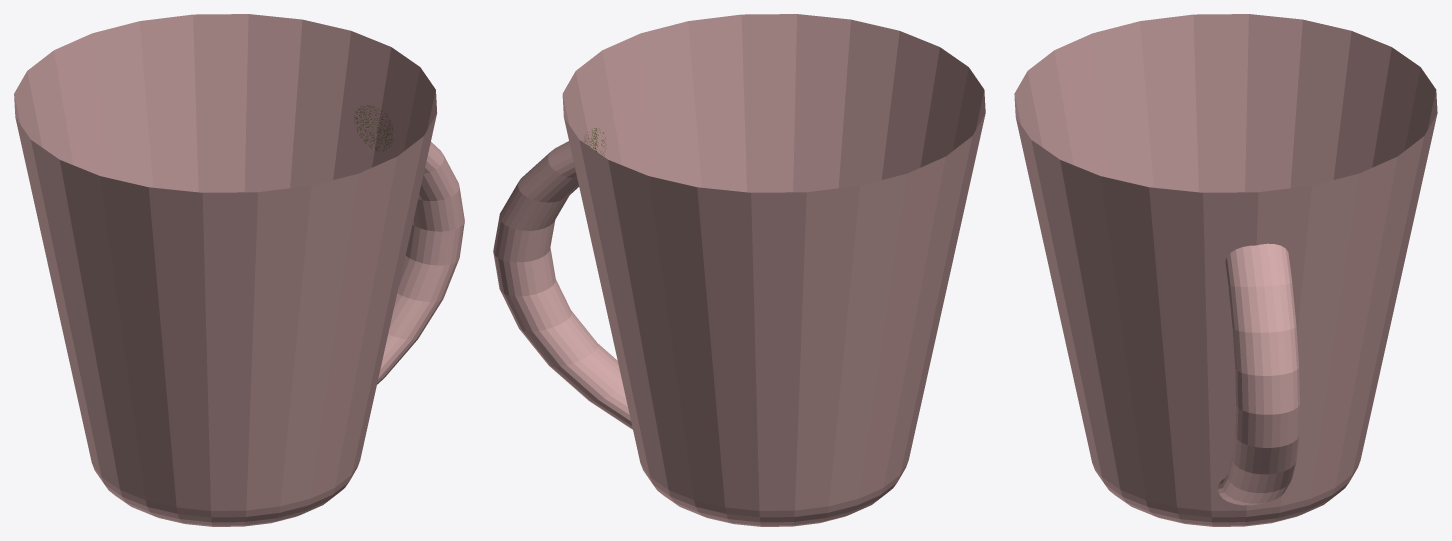
3 renders of one model, left to right at view 1: azimuth 30°, elevation 25°; view 2: azimuth 150°, elevation 25°; view 3: azimuth 270°, elevation 25°, orthographic.
Visible parts, largest first — view 1: mesh1.001_mesh1-geometry; view 2: mesh1.001_mesh1-geometry; view 3: mesh1.001_mesh1-geometry.
Part boxes in pixels (box(x1,y1,x2,y2)): mesh1.001_mesh1-geometry: box(14, 14, 464, 526); mesh1.001_mesh1-geometry: box(493, 14, 985, 526); mesh1.001_mesh1-geometry: box(1014, 14, 1437, 526).
Bounding box in the file's own units: 0.6475 × 0.5363 × 0.5414.
